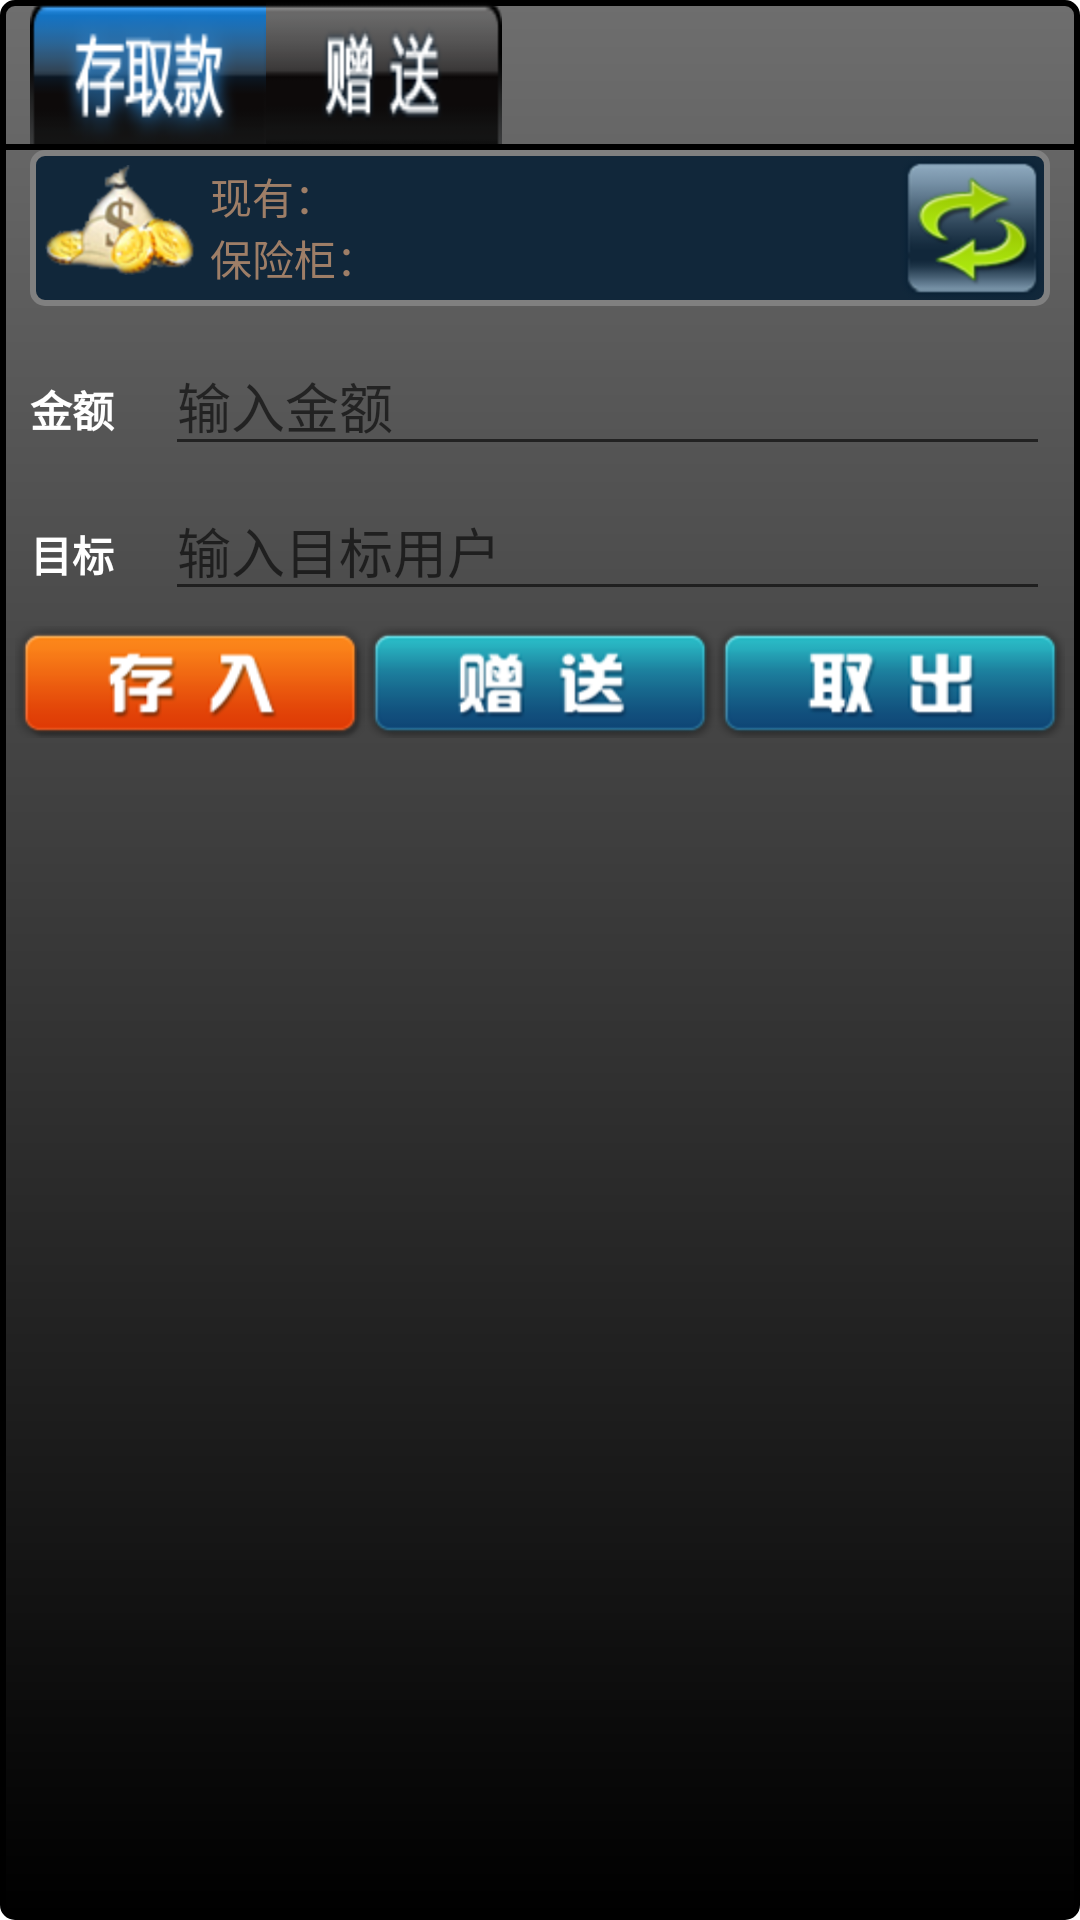

Icons on this 1080px×1920px Android screen, each with its box as bbox(x1, y1, x2, y2):
fresh: bbox(900, 156, 1044, 300)
